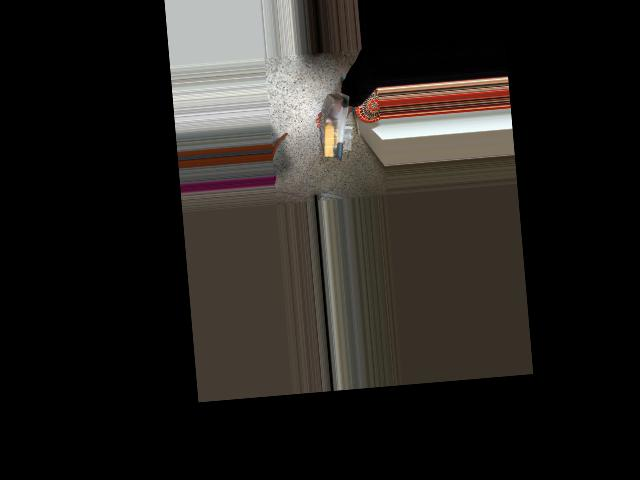cheese: (315, 89, 357, 160)
